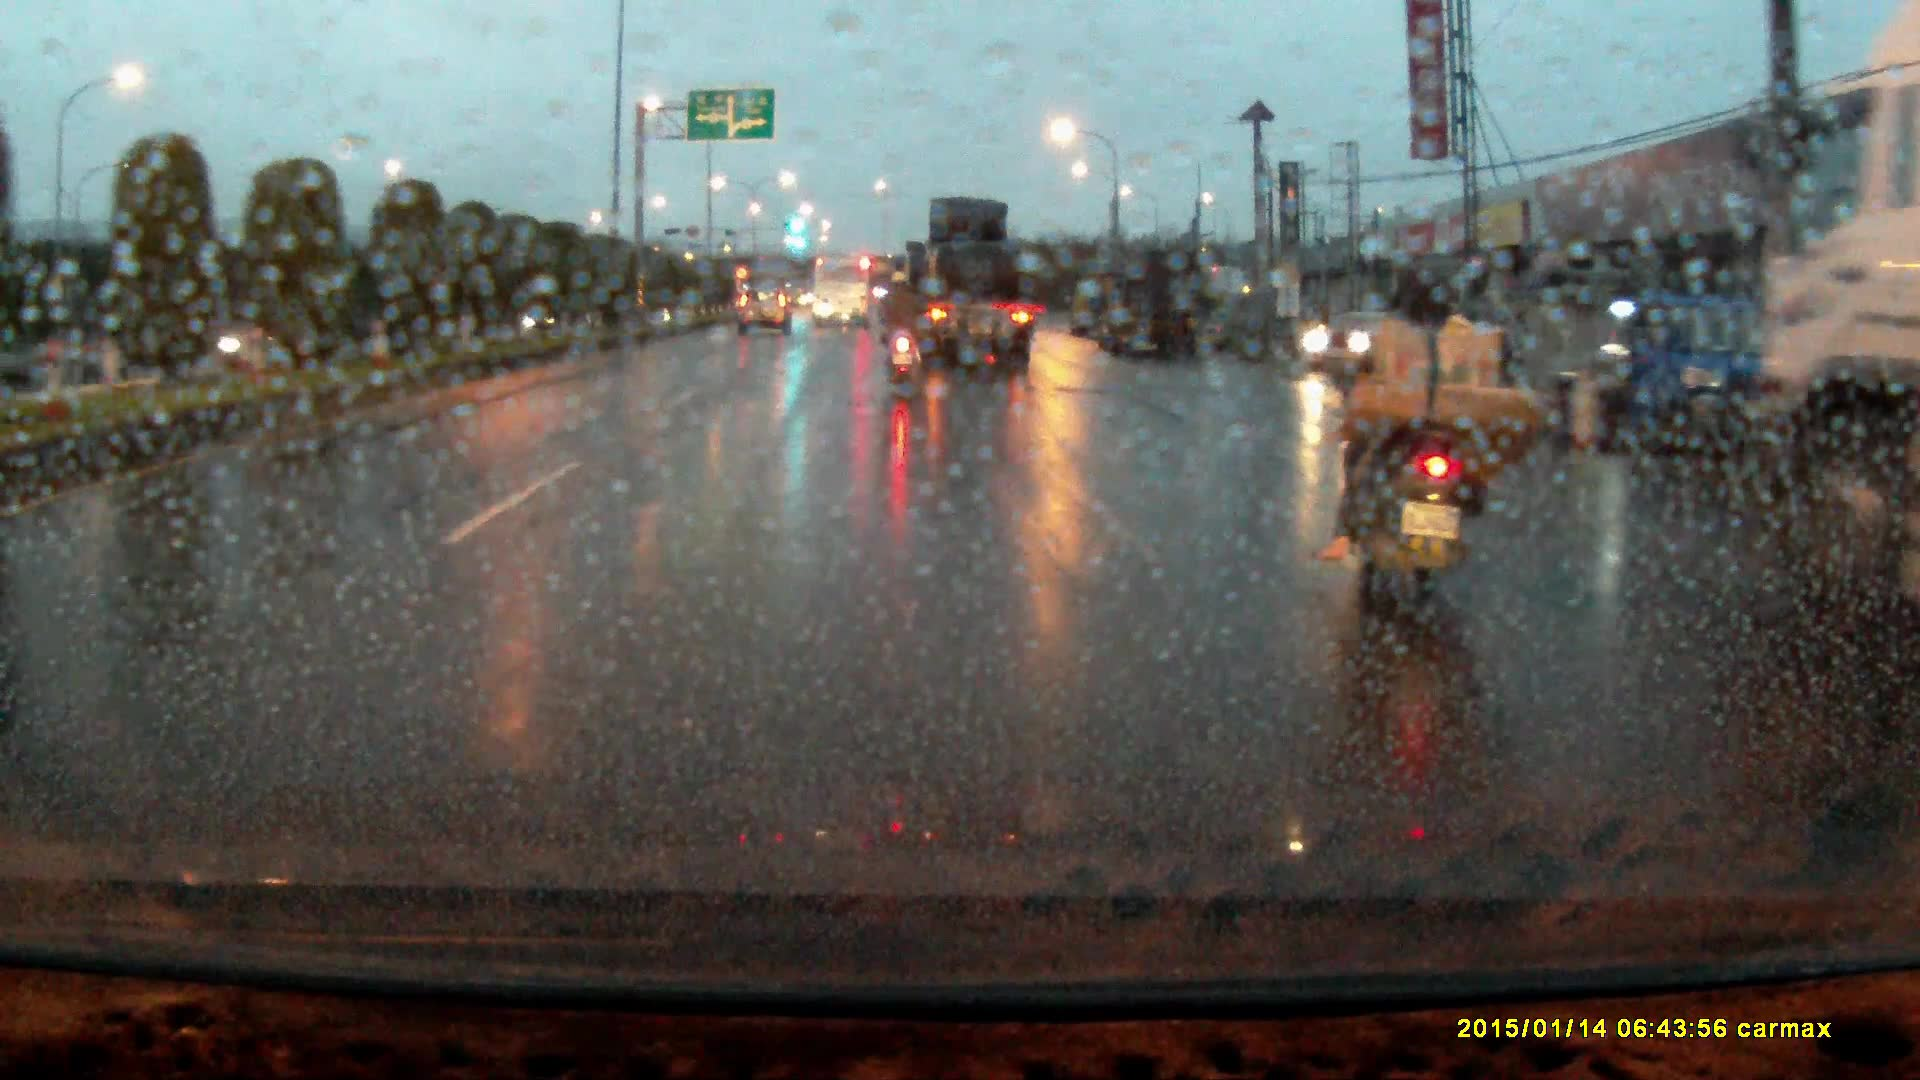rider: (1324, 251, 1553, 650), (879, 266, 931, 383)
vehicle: (1746, 69, 1920, 605), (1544, 286, 1757, 453), (891, 197, 1032, 374), (1106, 252, 1209, 365), (812, 254, 872, 331), (1069, 279, 1117, 338), (738, 291, 793, 339)
